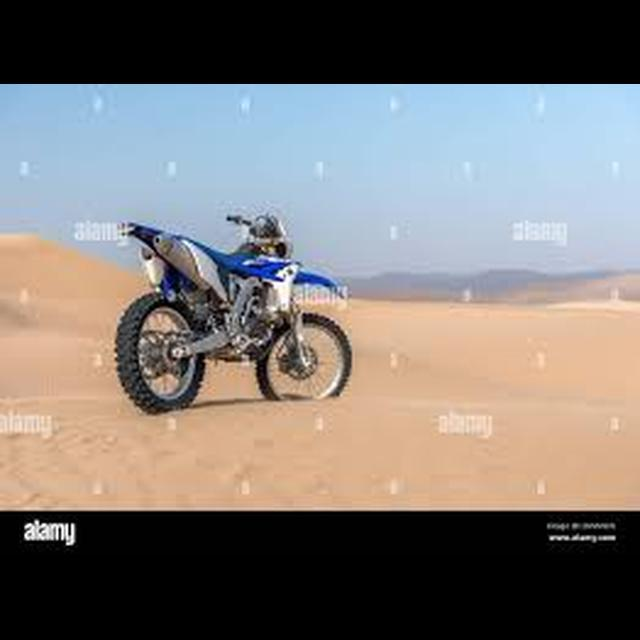motorcycle: (111, 203, 357, 415)
